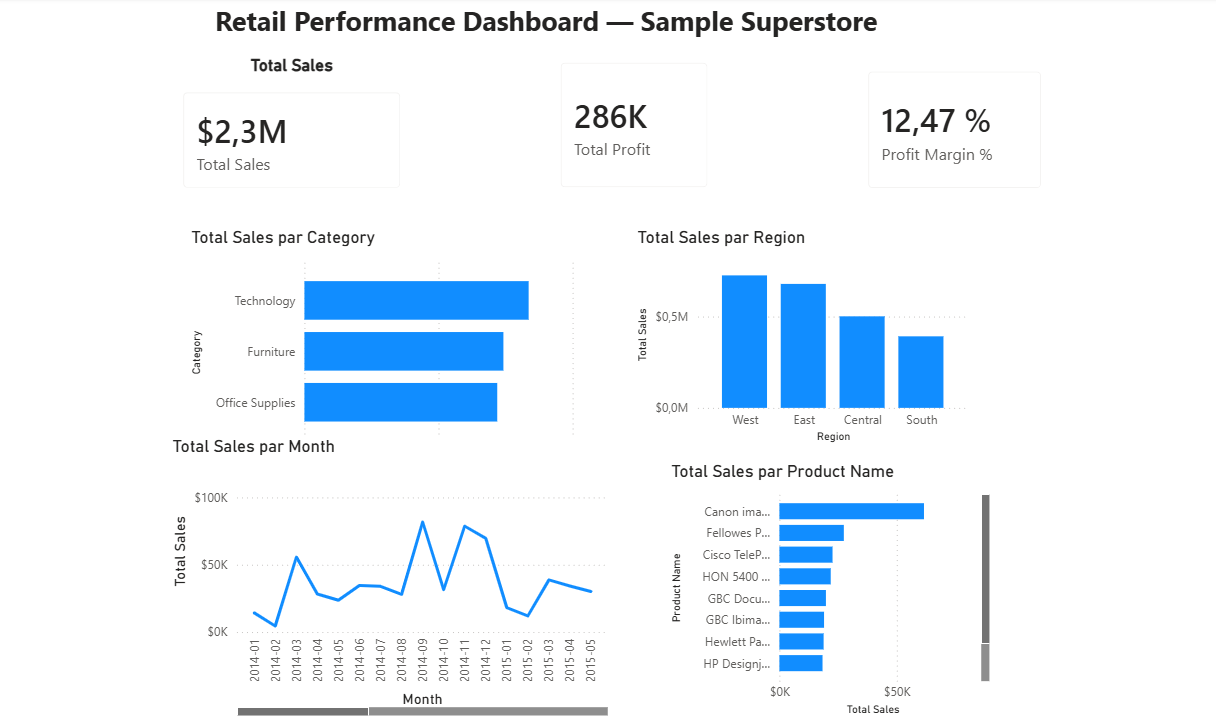

What the dashboard file says about the page in this screenshot:
{"tool":"powerbi","page":{"name":"Page 1","canvas":[1280,720],"ordinal":0},"visuals":[{"type":"clusteredColumnChart","fields":{"Category":["Sample - Superstore.Region"],"Y":["Sample - Superstore.Total Sales"]},"box":[640,228.3,340,220],"z":0},{"type":"clusteredBarChart","fields":{"Category":["Sample - Superstore.Category"],"Y":["Sample - Superstore.Total Sales"]},"box":[195,228.3,406.7,255],"z":1000},{"type":"lineChart","fields":{"Y":["Sample - Superstore.Total Sales"],"Category":["Sample - Superstore.Month"]},"box":[176.7,436.7,443.3,283.3],"z":2000},{"type":"clusteredBarChart","fields":{"Category":["Sample - Superstore.Product Name"],"Y":["Sample - Superstore.Total Sales"]},"box":[673.3,461.7,326.7,258.3],"z":3000},{"type":"cardVisual","title":"Total Sales","fields":{"Data":["Sample - Superstore.Total Sales"]},"box":[175,56.7,250,150],"z":4000},{"type":"cardVisual","fields":{"Data":["Sample - Superstore.Total Profit"]},"box":[550.8,48.3,180,158.3],"z":5000},{"type":"cardVisual","fields":{"Data":["Sample - Superstore.Profit Margin %"]},"box":[856.7,56.7,206.7,150],"z":6000},{"type":"textbox","box":[218.3,0,821.7,51.7],"z":7000}]}

Visuals, with their boxes on the page's 1280x720 design canvas (x1, y1, x2, y2). These are canvas units, not pixel positions in the 1216x717 screenshot, which may show the page scaled, cropped or inside an application window:
clusteredColumnChart - Sample - Superstore.Region x Sample - Superstore.Total Sales: [640, 228, 980, 448]
clusteredBarChart - Sample - Superstore.Category x Sample - Superstore.Total Sales: [195, 228, 602, 483]
lineChart - Sample - Superstore.Total Sales x Sample - Superstore.Month: [177, 437, 620, 720]
clusteredBarChart - Sample - Superstore.Product Name x Sample - Superstore.Total Sales: [673, 462, 1000, 720]
"Total Sales" cardVisual: [175, 57, 425, 207]
cardVisual - Sample - Superstore.Total Profit: [551, 48, 731, 207]
cardVisual - Sample - Superstore.Profit Margin %: [857, 57, 1063, 207]
textbox: [218, 0, 1040, 52]
